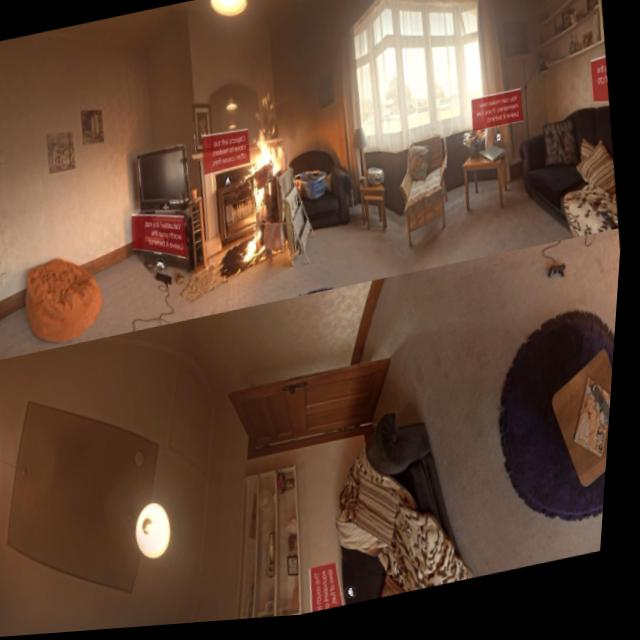fire: (217, 84, 304, 273)
